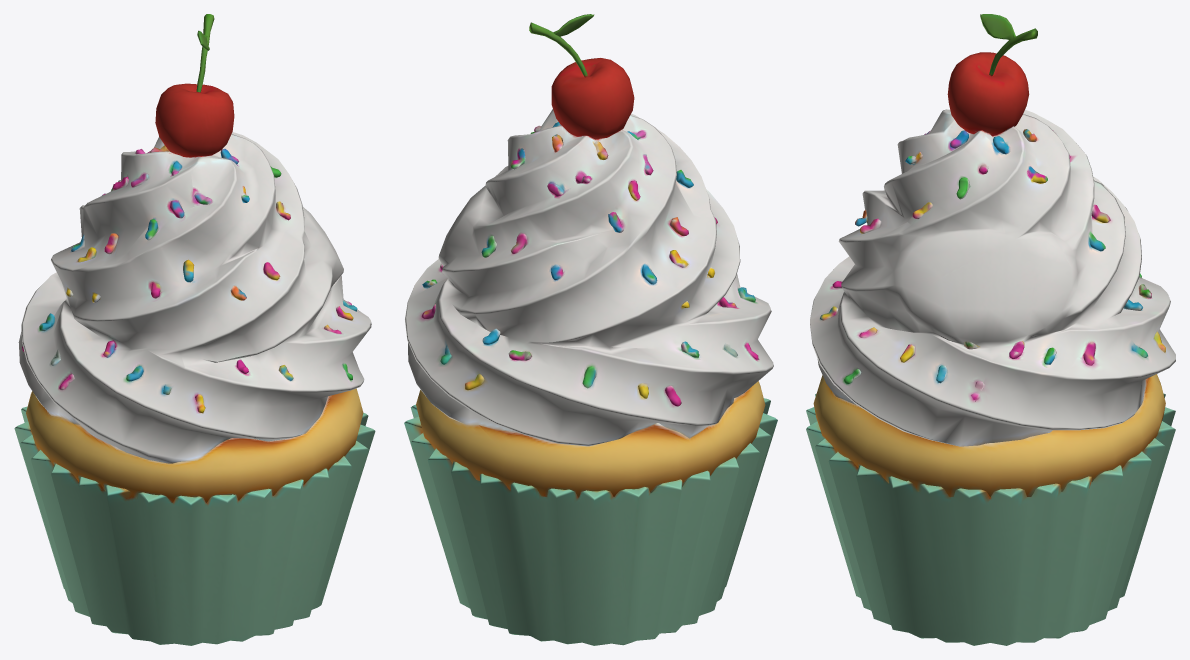
File: cherry_cupcake.glb
The picture shows the model from 3 angles, left to right: view 1: azimuth 30°, elevation 25°; view 2: azimuth 150°, elevation 25°; view 3: azimuth 270°, elevation 25°; orthographic projection. The views are drawn at different scales.
Visible parts, largest first — view 1: tripo_node_a2de162b-34ae-4a17-b0fa-75f2f7478a57; view 2: tripo_node_a2de162b-34ae-4a17-b0fa-75f2f7478a57; view 3: tripo_node_a2de162b-34ae-4a17-b0fa-75f2f7478a57.
Part boxes in pixels (left/top/right/bottom): tripo_node_a2de162b-34ae-4a17-b0fa-75f2f7478a57: left=14, top=14, right=375, bottom=645; tripo_node_a2de162b-34ae-4a17-b0fa-75f2f7478a57: left=404, top=14, right=777, bottom=645; tripo_node_a2de162b-34ae-4a17-b0fa-75f2f7478a57: left=806, top=14, right=1175, bottom=645.
Size of the model in its own units: 0.5879 by 0.998 by 0.5762.
1 material, 1 textured.
